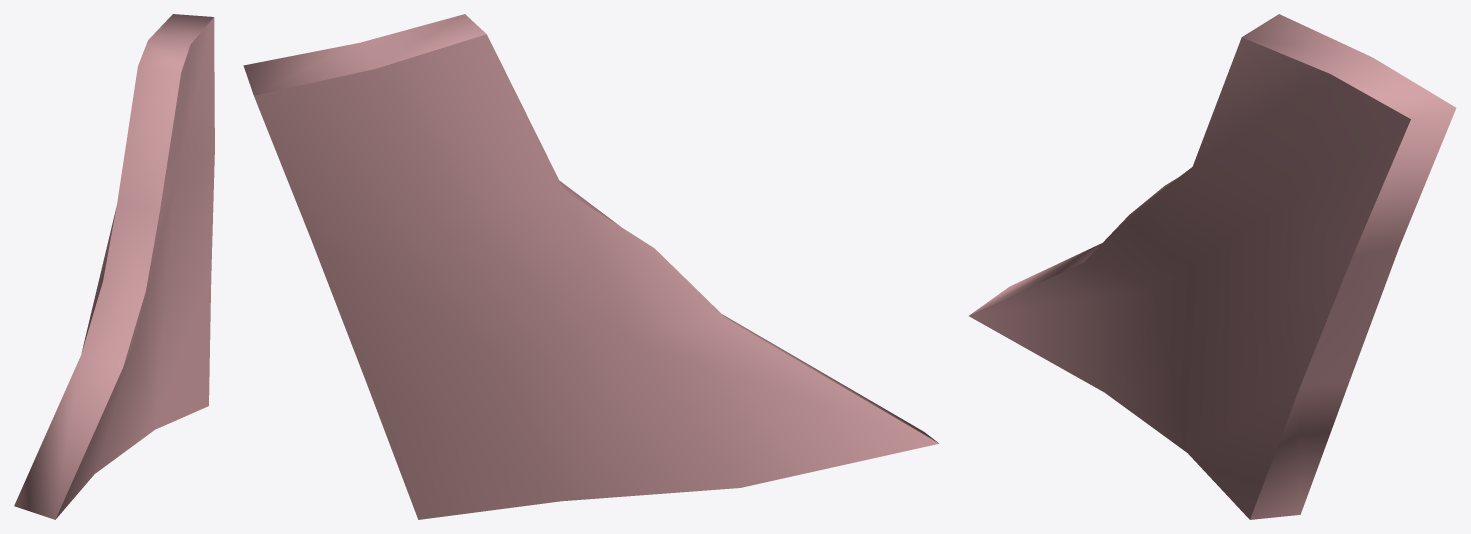
3 views of the same model, side by side, from view 1: azimuth 30°, elevation 25°; view 2: azimuth 150°, elevation 25°; view 3: azimuth 270°, elevation 25° (orthographic). The views are drawn at different scales.
Parts seen in each view (by area): view 1: ZA_11cff7c7daf380d8; view 2: ZA_11cff7c7daf380d8; view 3: ZA_11cff7c7daf380d8.
Part boxes in pixels (<box>): ZA_11cff7c7daf380d8: <box>14,14,214,519</box>; ZA_11cff7c7daf380d8: <box>243,14,938,519</box>; ZA_11cff7c7daf380d8: <box>969,14,1456,519</box>.
Bounding box in the file's own units: 0.0275 × 0.0264 × 0.0247.
